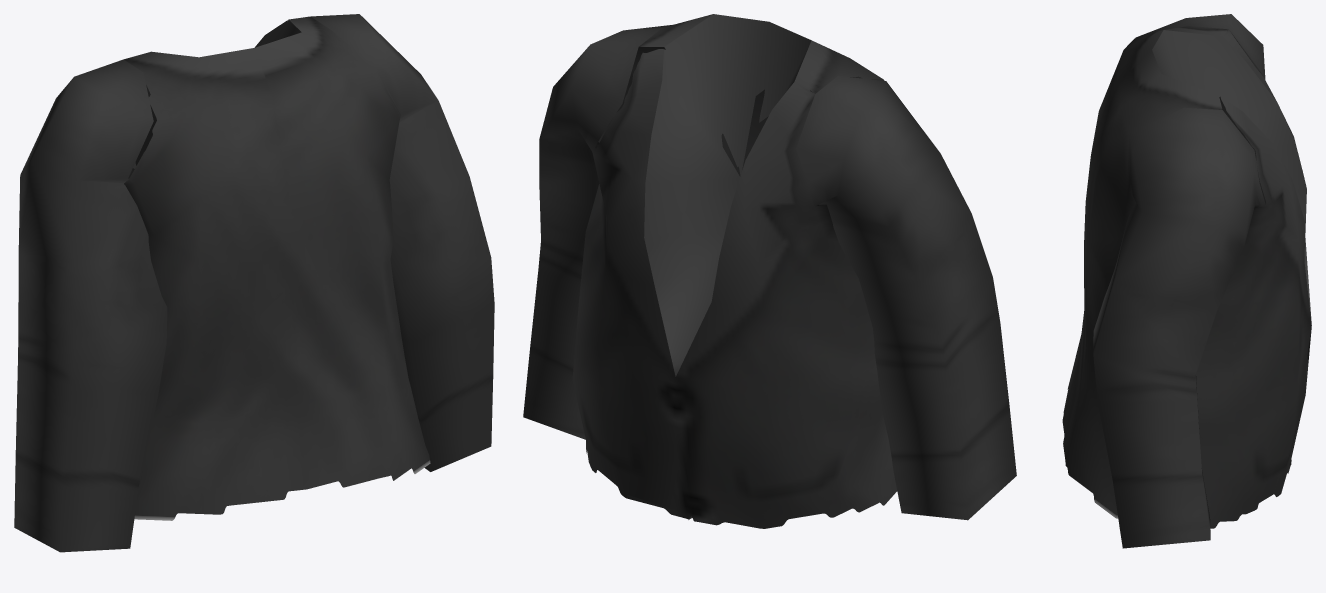
The model's file is Bob_SuitJacket.obj.
3 renders of one model, left to right at view 1: azimuth 30°, elevation 25°; view 2: azimuth 150°, elevation 25°; view 3: azimuth 270°, elevation 25°, orthographic. The views are drawn at different scales.
Parts seen in each view (by area): view 1: Bob_SuitJacket; view 2: Bob_SuitJacket; view 3: Bob_SuitJacket.
Part boxes in pixels (box(x1,y1,x2,y2)): Bob_SuitJacket: box(14, 14, 494, 552); Bob_SuitJacket: box(523, 14, 1016, 528); Bob_SuitJacket: box(1062, 14, 1311, 548).
Bounding box in the file's own units: 0.3334 × 0.3616 × 0.1908.
